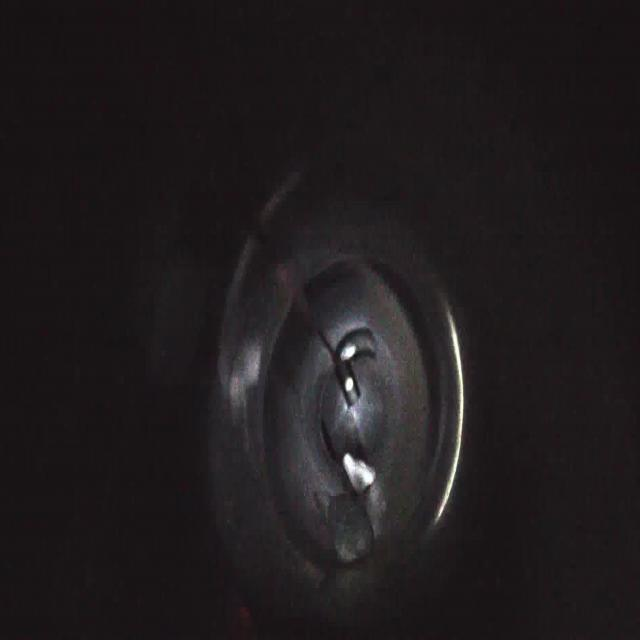impurity: (323, 489, 378, 572), (340, 449, 379, 491)
